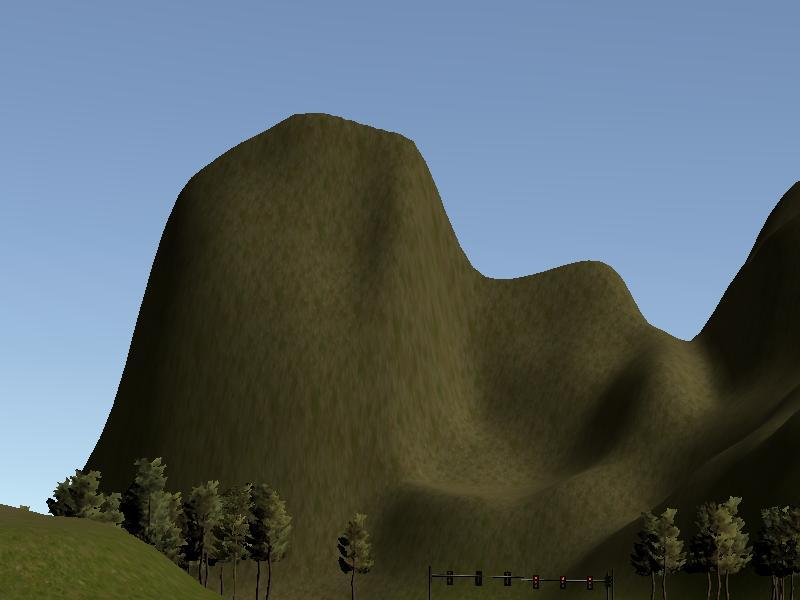Red: (531, 572, 541, 590), (585, 572, 594, 591), (558, 574, 566, 591)
